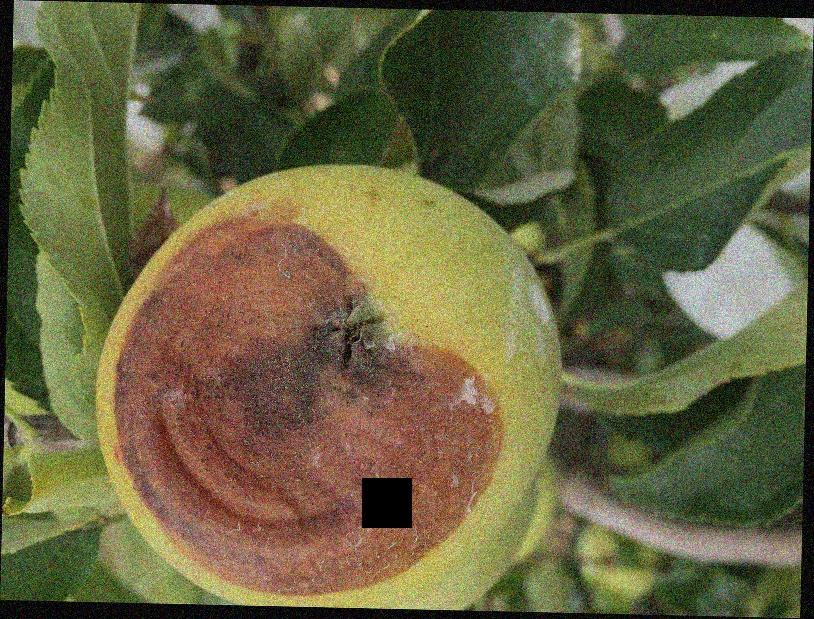rotten apple: (95, 161, 563, 608)
